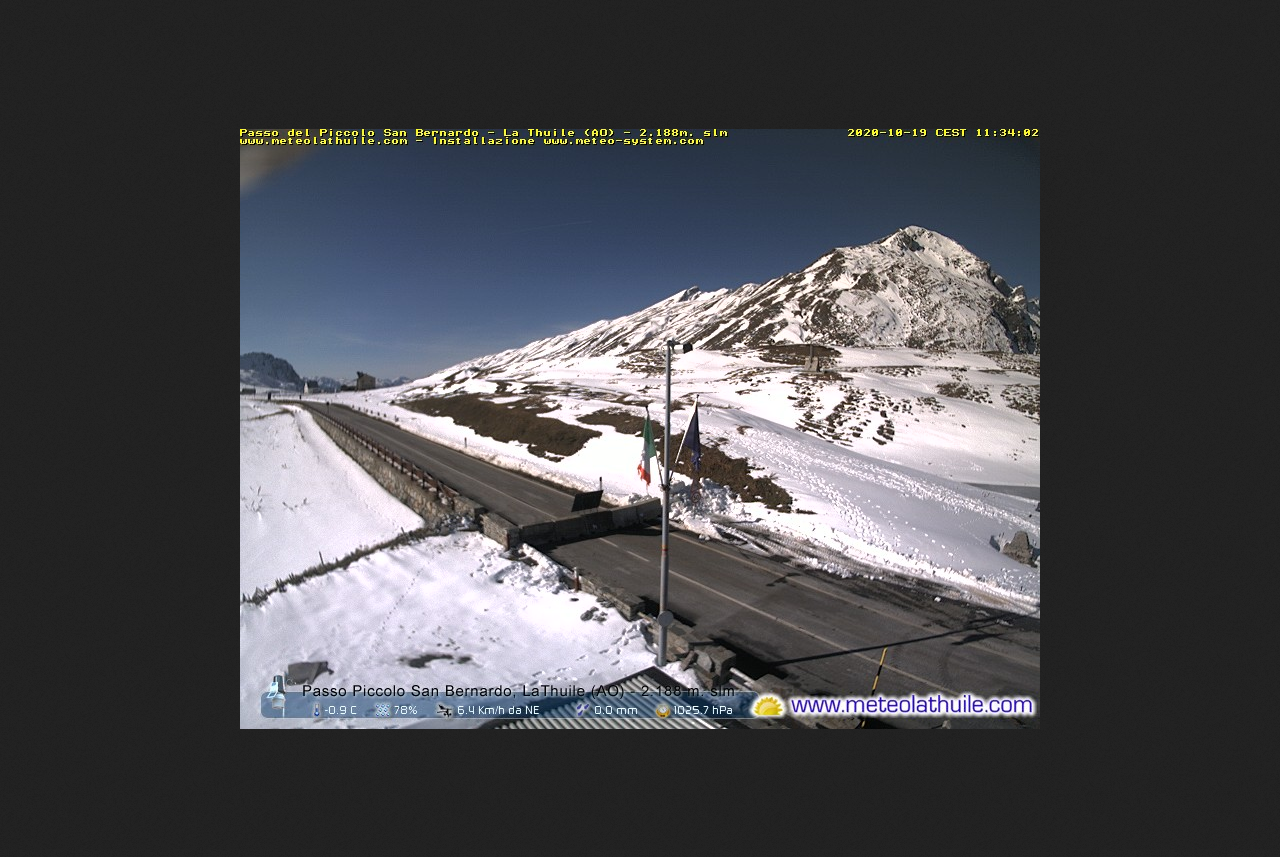no: (678, 392, 710, 473), (632, 401, 657, 487)
